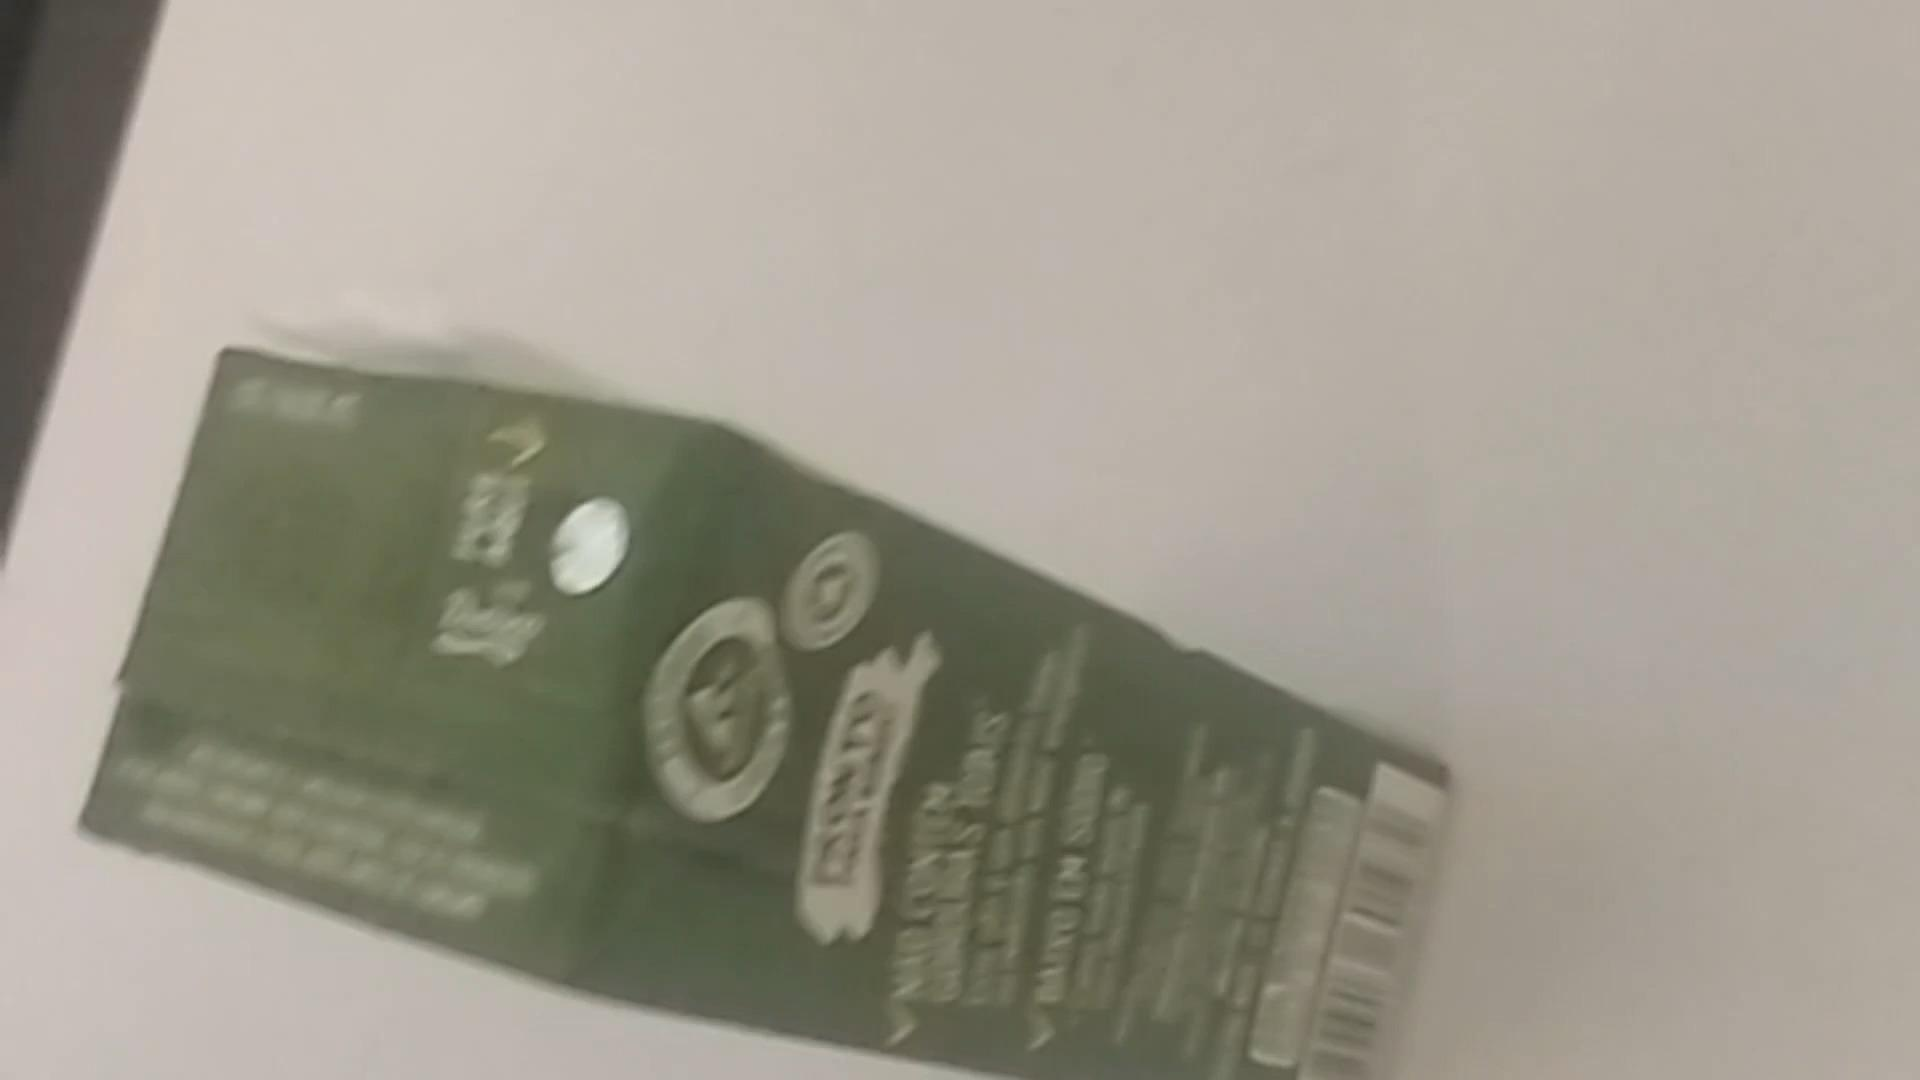coco: (91, 348, 1447, 1073)
